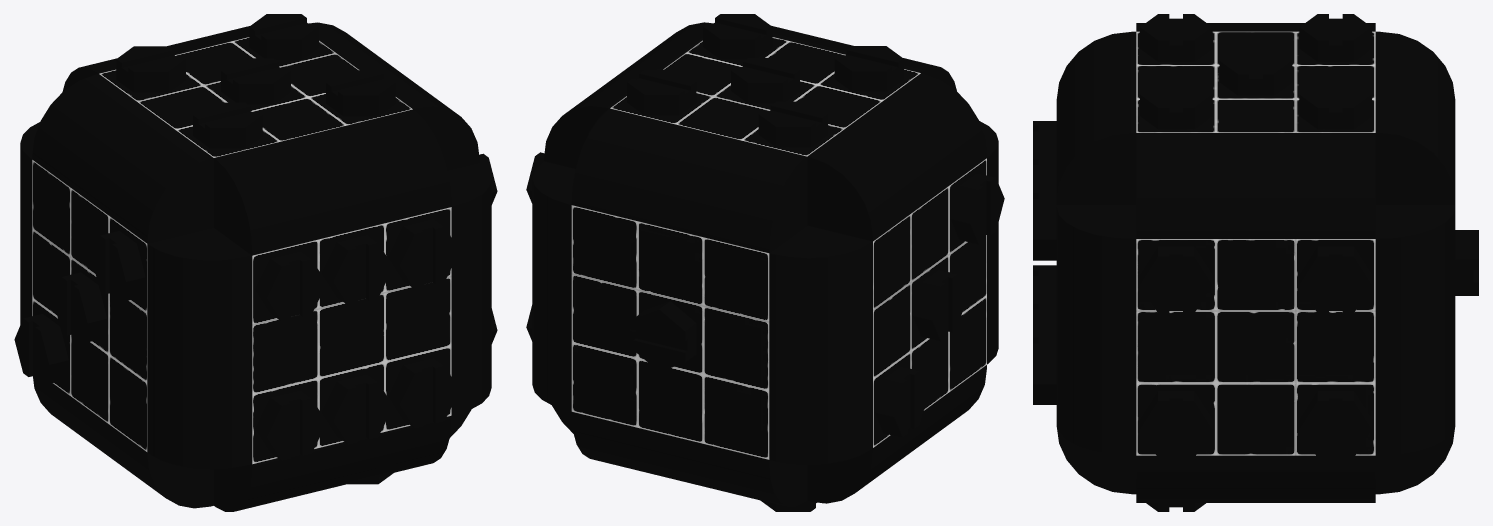
The model's file is die.glb.
3 views of the same model, side by side, from view 1: azimuth 30°, elevation 25°; view 2: azimuth 150°, elevation 25°; view 3: azimuth 270°, elevation 25° (orthographic). The views are drawn at different scales.
Parts seen in each view (by area): view 1: edges, faces, nuts; view 2: edges, faces, nuts; view 3: edges, faces, nuts.
Part boxes in pixels (bbox=[...]): edges: bbox=[20, 22, 491, 511]; faces: bbox=[32, 37, 451, 464]; nuts: bbox=[14, 14, 497, 484]; edges: bbox=[532, 22, 998, 506]; faces: bbox=[571, 37, 986, 459]; nuts: bbox=[526, 14, 1004, 511]; edges: bbox=[1056, 23, 1455, 502]; faces: bbox=[1136, 31, 1375, 455]; nuts: bbox=[1033, 14, 1478, 511].
Bounding box in the file's own units: 1.4 × 1.4 × 1.4.
Materials: 3 (3 with a texture image).
